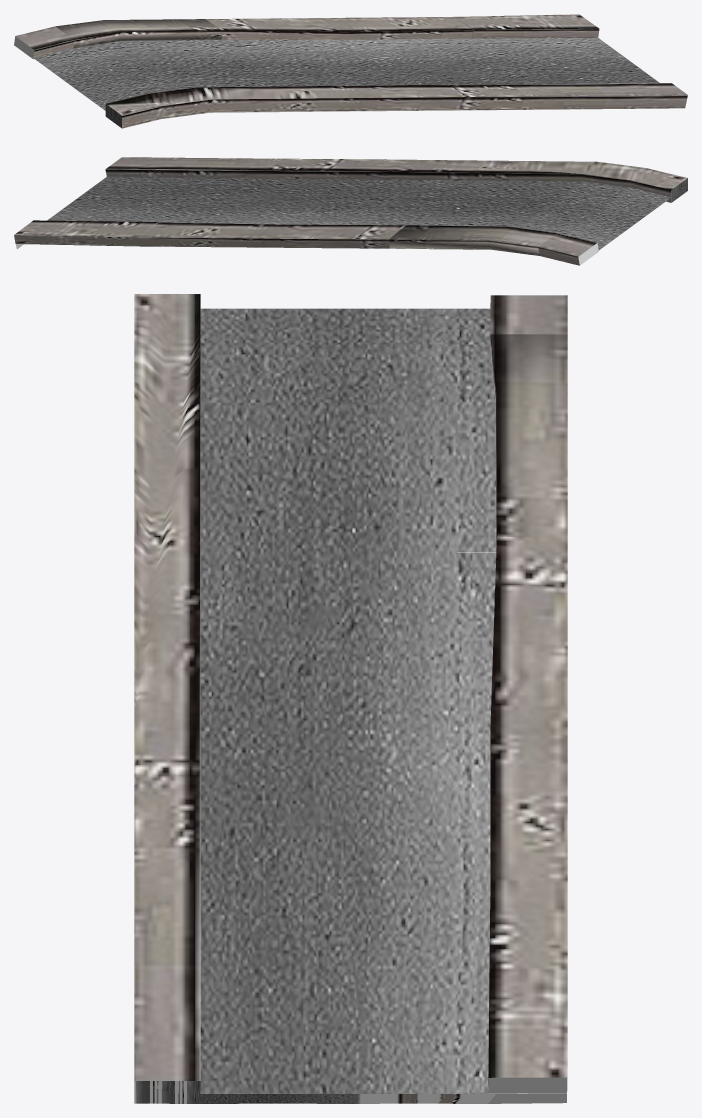
Rendered from callempinadablend.fbx.
The picture shows the model from 3 angles, top to bottom: view 1: azimuth 30°, elevation 25°; view 2: azimuth 150°, elevation 25°; view 3: azimuth 270°, elevation 25°; orthographic projection. The views are drawn at different scales.
Visible parts, largest first — view 1: Plane.004; view 2: Plane.004; view 3: Plane.004.
Part boxes in pixels (<box>): Plane.004: <box>14,14,687,128</box>; Plane.004: <box>14,157,687,265</box>; Plane.004: <box>134,294,567,1103</box>.
Size of the model in its own units: 882 by 194 by 292.
1 material, 1 textured.
